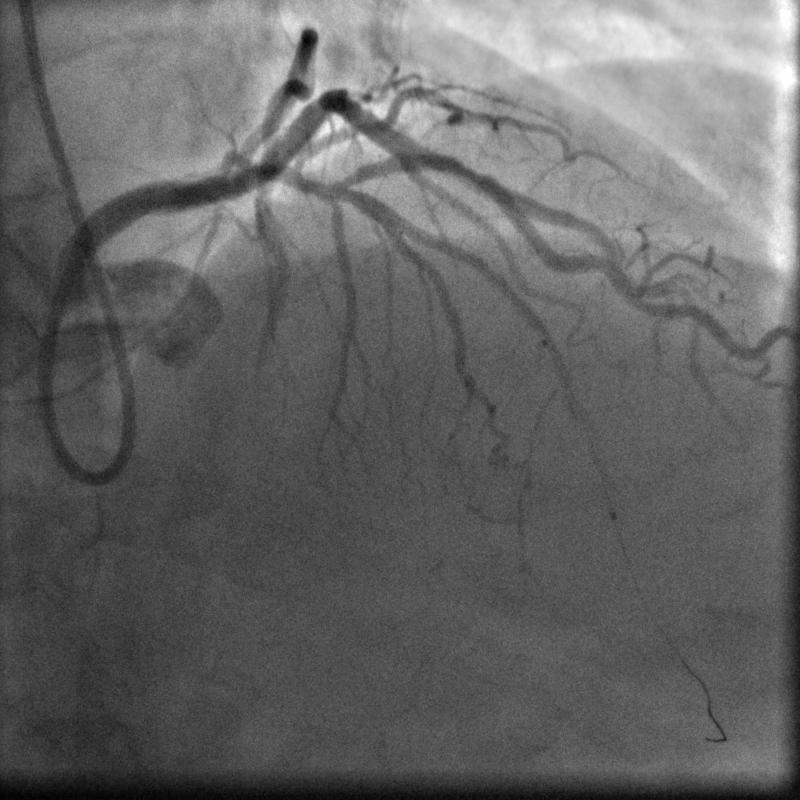Stenosis: (447, 148, 490, 195)
